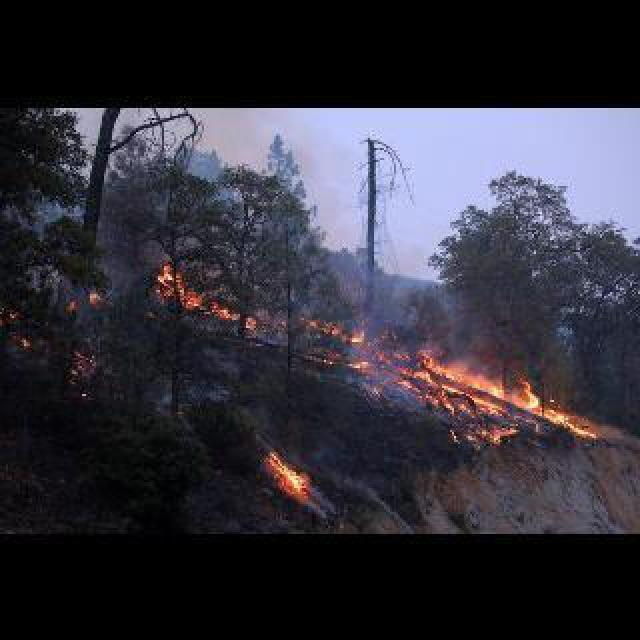Fire: (298, 312, 598, 446), (154, 260, 236, 324), (256, 448, 322, 500)
